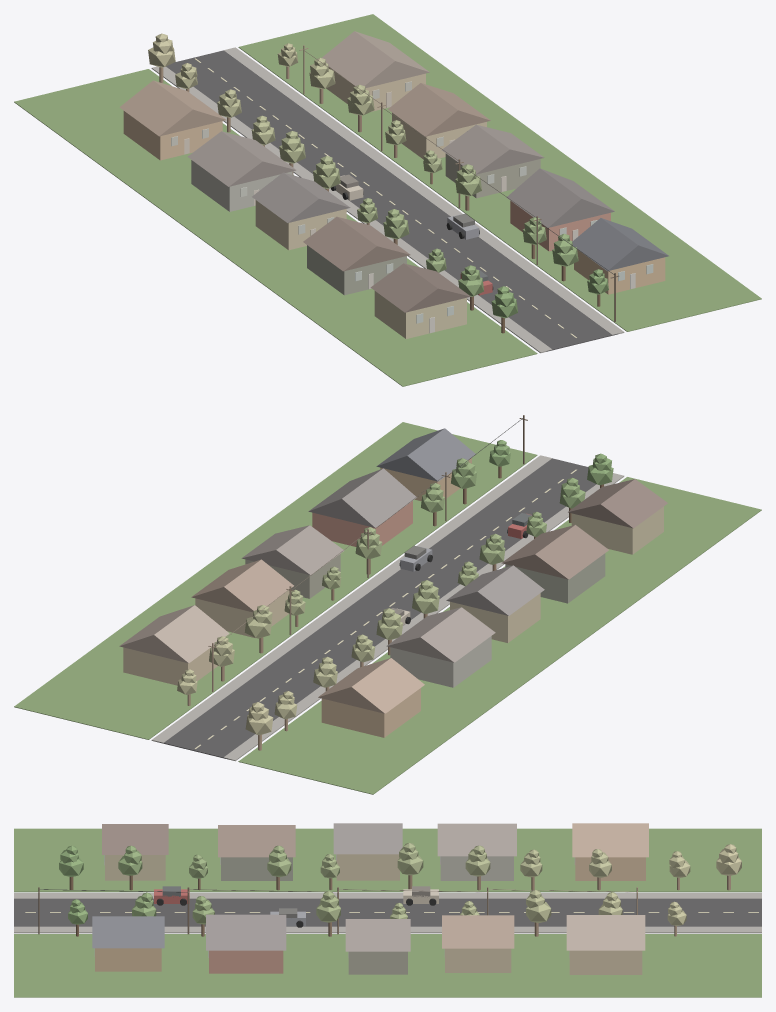
Rendered from street_scene.glb.
The picture shows the model from 3 angles, top to bottom: view 1: azimuth 30°, elevation 25°; view 2: azimuth 150°, elevation 25°; view 3: azimuth 270°, elevation 25°; orthographic projection. The views are drawn at different scales.
Visible parts, largest first — view 1: grass_L-col, grass_R-col, road-col, sidewalk_R-col, house_R4_roof-col, house_R1_roof-col, house_L3_roof-col, house_L4_roof-col, house_L1_roof-col, house_R3_roof-col, house_R0_roof-col, sidewalk_L-col (+13 smaller); view 2: grass_L-col, grass_R-col, road-col, sidewalk_R-col, house_R4_roof-col, house_R1_roof-col, house_L3_roof-col, house_L4_roof-col, house_L1_roof-col, house_R3_roof-col, house_R2_roof-col, house_R0_roof-col (+13 smaller); view 3: grass_R-col, grass_L-col, road-col, sidewalk_L-col, house_R1_roof-col, sidewalk_R-col, house_R4_roof-col, house_L4_roof-col, house_L3_roof-col, house_R3_roof-col, house_L1_roof-col, house_R0_roof-col (+22 smaller).
Part boxes in pixels (x1,y1,x2,y2): grass_L-col: (14,69,537,386); grass_R-col: (238,14,761,331); road-col: (166,50,617,351); sidewalk_R-col: (224,47,624,334); house_R4_roof-col: (322,31,429,88); house_R1_roof-col: (506,168,614,227); house_L3_roof-col: (187,131,296,186); house_L4_roof-col: (119,80,226,136); house_L1_roof-col: (303,216,410,271); house_R3_roof-col: (388,83,490,136); house_R0_roof-col: (572,218,668,271); sidewalk_L-col: (151,66,551,353); grass_L-col: (238,477,761,794); grass_R-col: (14,422,537,739); road-col: (158,458,596,759); sidewalk_R-col: (151,455,552,743); house_R4_roof-col: (119,605,229,663); house_R1_roof-col: (308,468,416,527); house_L3_roof-col: (386,607,495,662); house_L4_roof-col: (318,658,424,713); house_L1_roof-col: (501,525,608,579); house_R3_roof-col: (191,559,293,612); house_R2_roof-col: (241,525,344,575); house_R0_roof-col: (376,428,475,481); grass_R-col: (14,934,761,997); grass_L-col: (14,828,761,892); road-col: (14,898,761,926); sidewalk_L-col: (14,893,761,898); house_R1_roof-col: (206,914,286,950); sidewalk_R-col: (14,926,761,933); house_R4_roof-col: (566,915,645,950); house_L4_roof-col: (572,823,648,857); house_L3_roof-col: (437,823,516,856); house_R3_roof-col: (442,915,514,948); house_L1_roof-col: (218,825,295,857); house_R0_roof-col: (92,916,164,948).
Bounding box in the file's own units: 48 × 6.3 × 90.
